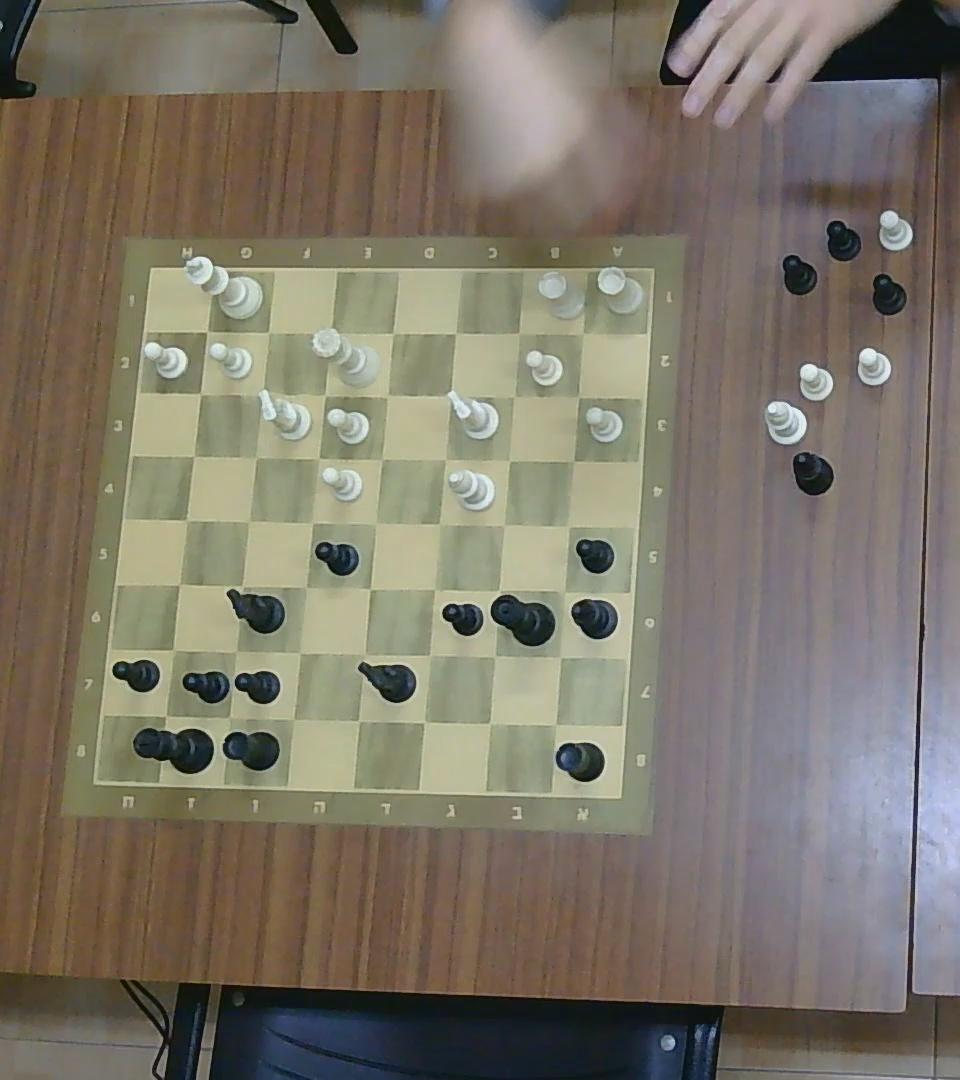xcorner: (215, 702, 242, 731), (477, 709, 503, 735), (153, 702, 179, 728), (280, 705, 305, 732), (543, 711, 569, 736), (167, 571, 192, 596), (346, 707, 370, 733), (549, 643, 573, 669), (412, 709, 436, 734), (561, 448, 585, 473), (161, 637, 185, 662), (482, 642, 505, 667), (288, 640, 311, 665), (236, 509, 259, 533), (427, 512, 450, 536), (230, 573, 253, 597), (318, 320, 341, 344), (419, 643, 442, 666), (352, 641, 375, 664), (487, 577, 510, 600), (175, 507, 197, 531), (224, 639, 246, 663), (196, 318, 218, 342), (363, 511, 385, 534), (558, 513, 580, 536), (422, 577, 444, 600), (438, 383, 461, 405), (251, 381, 272, 405), (182, 444, 204, 466), (245, 446, 267, 468), (568, 385, 590, 407), (552, 581, 575, 602), (493, 512, 513, 536), (295, 575, 315, 599), (258, 321, 279, 343), (360, 577, 380, 600), (371, 448, 392, 469), (498, 449, 518, 471), (445, 321, 465, 343), (383, 321, 403, 343), (376, 384, 396, 405), (189, 383, 210, 403), (509, 322, 530, 342), (302, 510, 321, 532), (308, 446, 327, 468), (504, 386, 524, 406), (435, 448, 454, 469), (573, 323, 592, 344), (315, 384, 334, 405)
